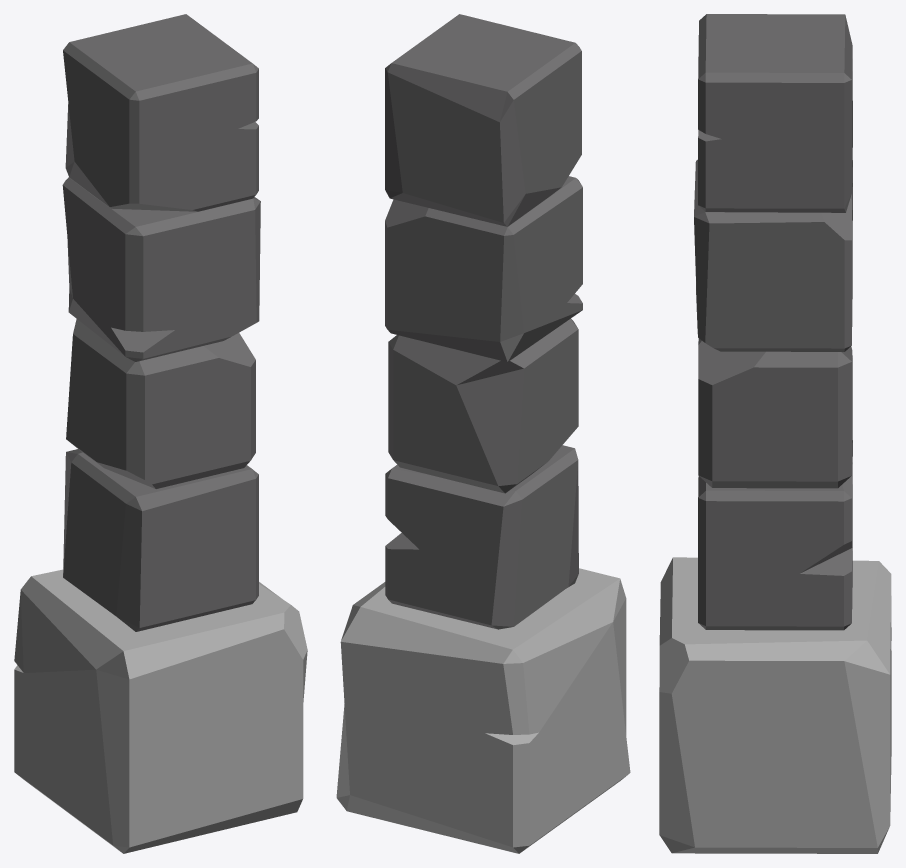
Rendered from WallPillar.gltf.
3 renders of one model, left to right at view 1: azimuth 30°, elevation 25°; view 2: azimuth 150°, elevation 25°; view 3: azimuth 270°, elevation 25°, orthographic. The views are drawn at different scales.
Visible parts, largest first — view 1: Cube.001; view 2: Cube.001; view 3: Cube.001.
Boxes of the visible parts, x1,y1,x2,y2 form: Cube.001: (14,14,307,853); Cube.001: (336,14,630,853); Cube.001: (659,14,891,853).
Size of the model in its own units: 0.6035 by 2.2 by 0.6035.
1 material, 1 textured.
